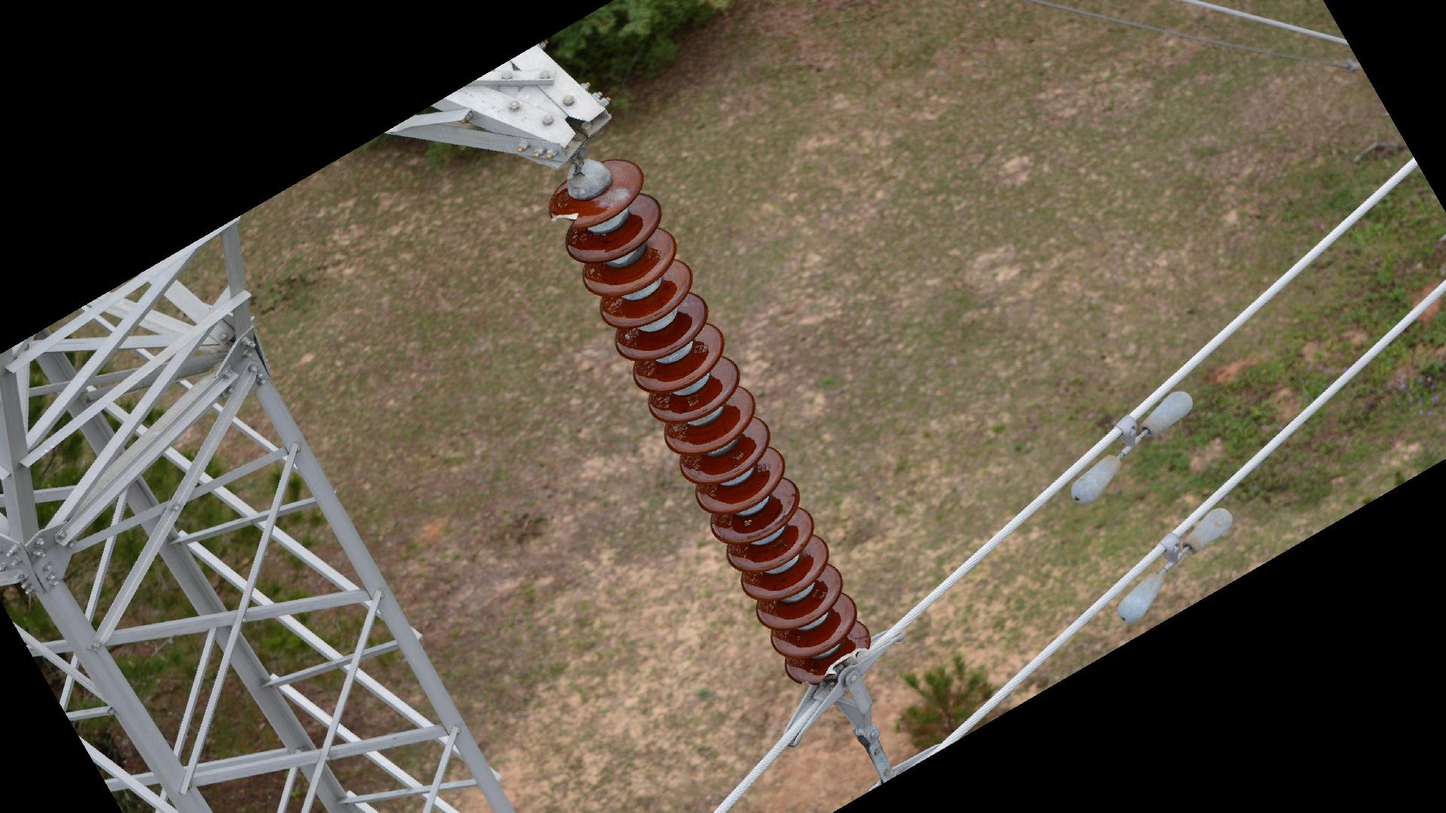insulator: (544, 156, 876, 690)
insulator_breakage: (817, 644, 871, 684), (548, 208, 584, 231)
